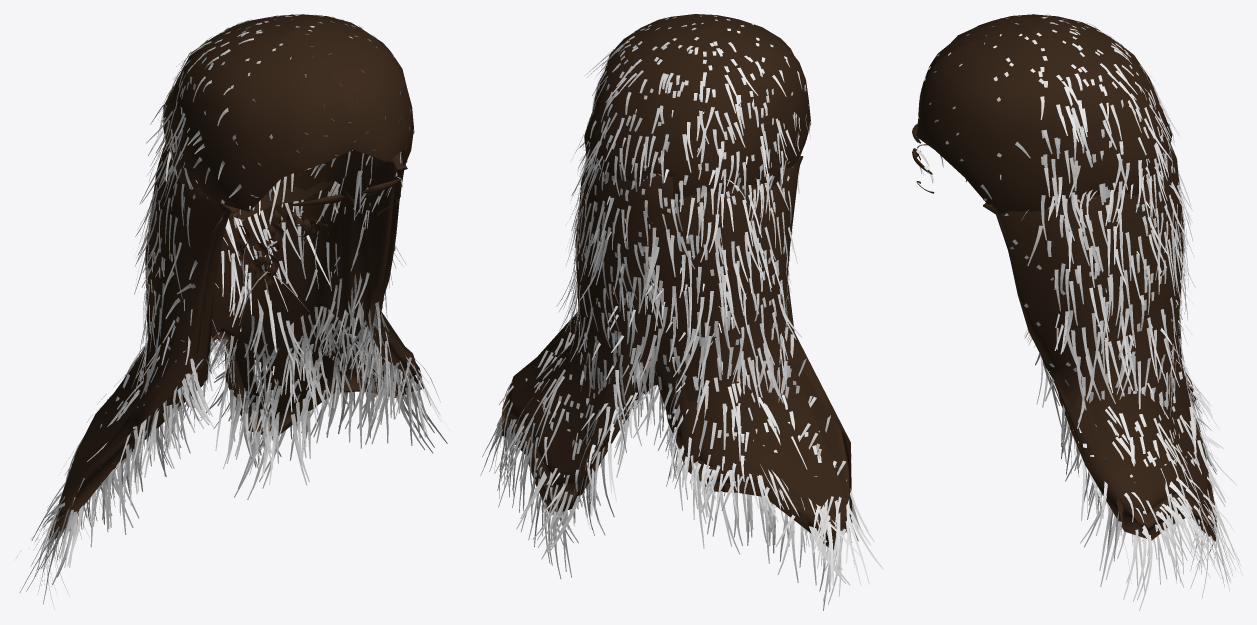
The model's file is hair-warden-long.glb.
3 renders of one model, left to right at view 1: azimuth 30°, elevation 25°; view 2: azimuth 150°, elevation 25°; view 3: azimuth 270°, elevation 25°, orthographic. The views are drawn at different scales.
Visible parts, largest first — view 1: hair-warden-long_1, hair__strands; view 2: hair-warden-long_1, hair__strands; view 3: hair-warden-long_1, hair__strands.
Part boxes in pixels (<box>): hair-warden-long_1: <box>48,14,423,540</box>; hair__strands: <box>16,14,449,609</box>; hair-warden-long_1: <box>502,14,852,549</box>; hair__strands: <box>480,15,883,610</box>; hair-warden-long_1: <box>912,14,1216,541</box>; hair__strands: <box>916,14,1242,610</box>.
Size of the model in its own units: 0.4432 by 0.5613 by 0.3073.
